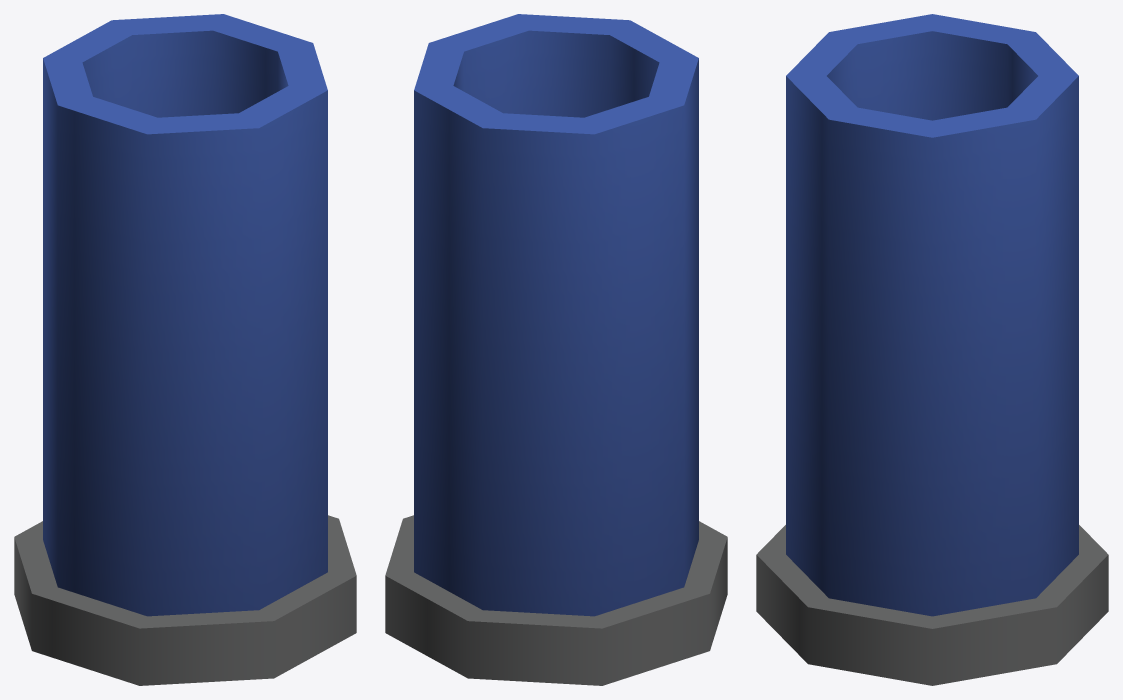
The model's file is Chimney_1_D_2.glb.
3 views of the same model, side by side, from view 1: azimuth 30°, elevation 25°; view 2: azimuth 150°, elevation 25°; view 3: azimuth 270°, elevation 25° (orthographic).
Visible parts, largest first — view 1: Chimney_1_D_2; view 2: Chimney_1_D_2; view 3: Chimney_1_D_2.
Part boxes in pixels (bbox=[...]): Chimney_1_D_2: bbox=[14, 14, 356, 685]; Chimney_1_D_2: bbox=[385, 14, 727, 685]; Chimney_1_D_2: bbox=[756, 14, 1108, 685].
Size of the model in its own units: 0.6178 by 1.04 by 0.6178.
Materials: 1 (1 with a texture image).
